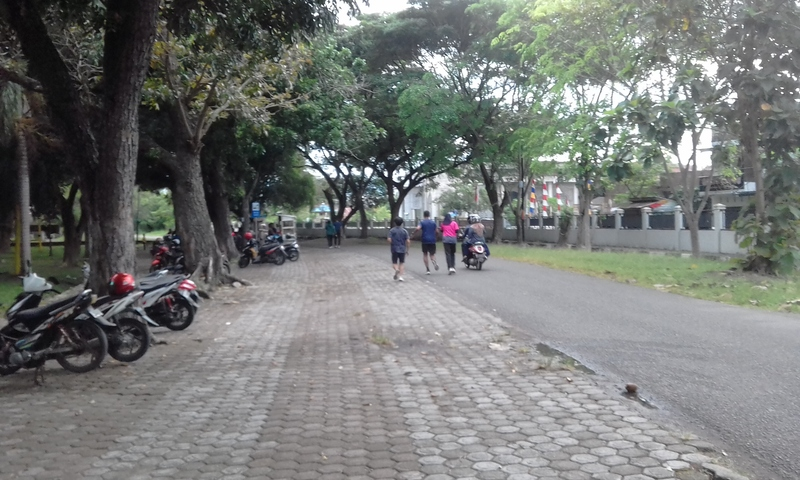person: (386, 214, 410, 288), (417, 210, 441, 276), (438, 210, 461, 275)
